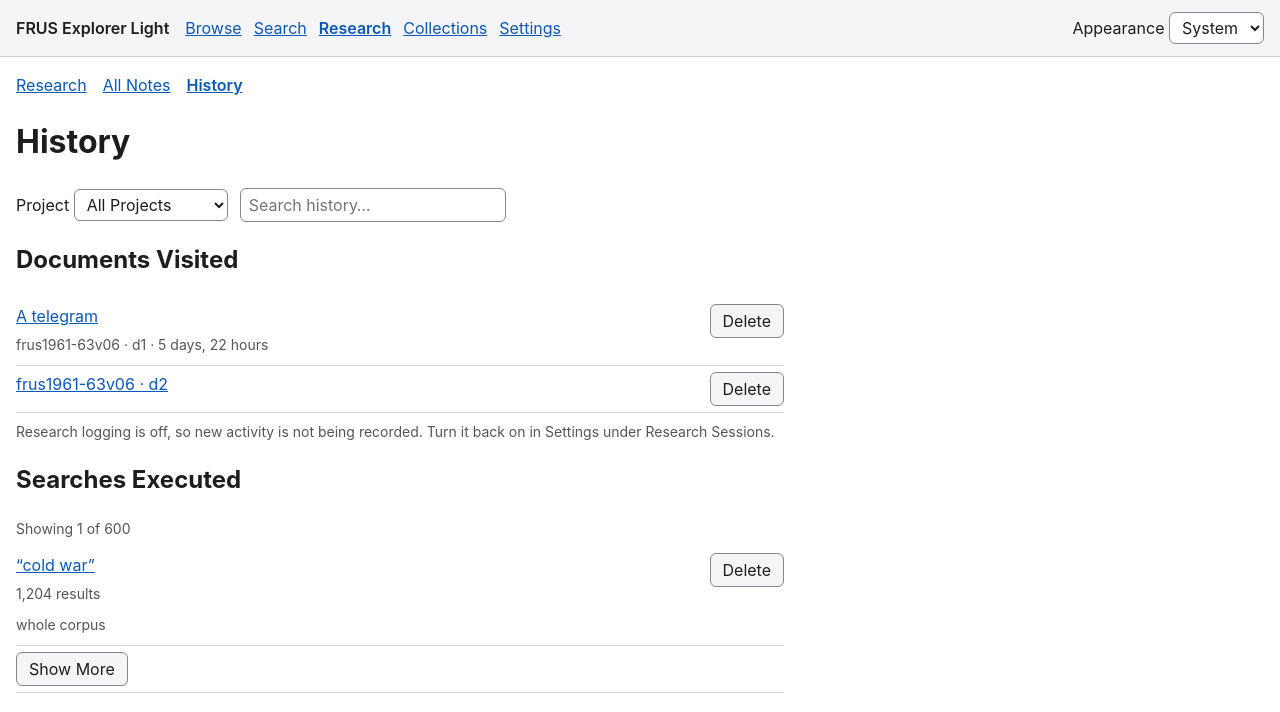
the History screen › shows each section with its count, filters the page loaded, and says when logging is off
Expected: the heading "History" is shown, [16,122,130,161]
Expected: the text "Showing 1 of 600" is shown, [16,520,130,537]
Type "\"cold" into the search field labelled "Search history" at coordinates (373, 205), box [240,188,506,222]
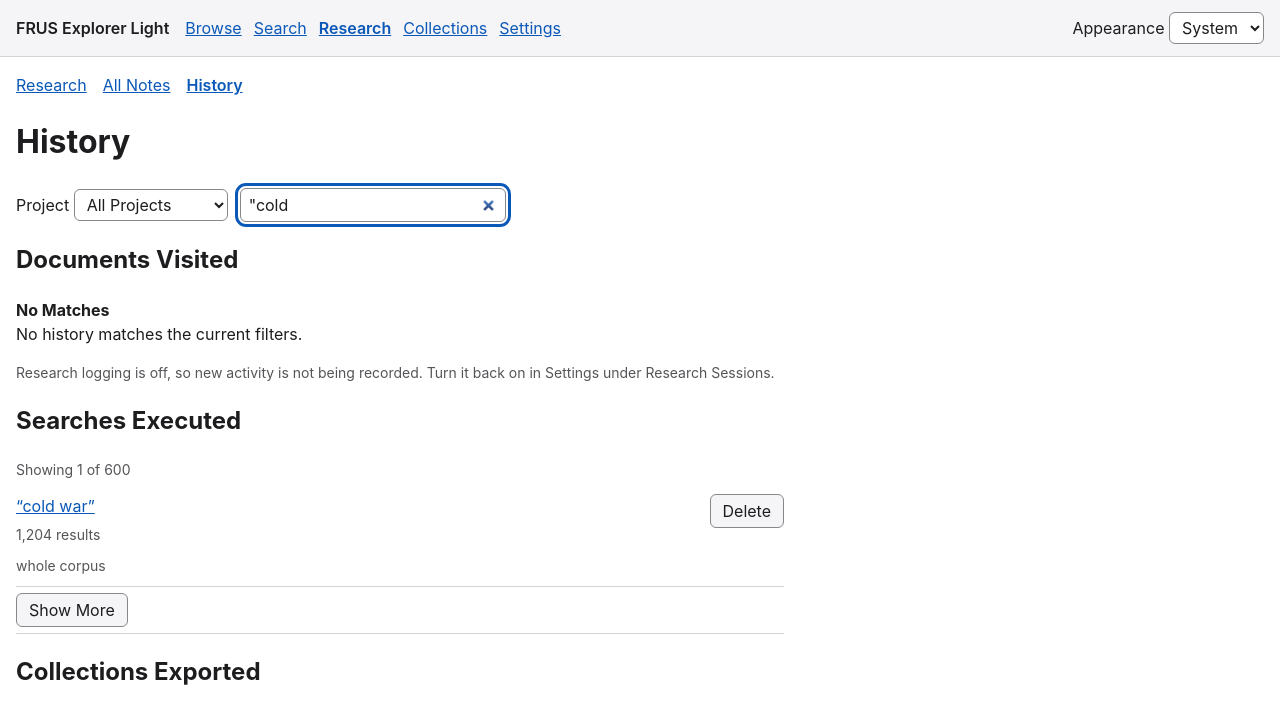
Expected: the link "“cold war”" is shown, [16,494,106,518]
Expected: the text "No Matches" below "Documents Visited" is shown, [16,300,110,320]
